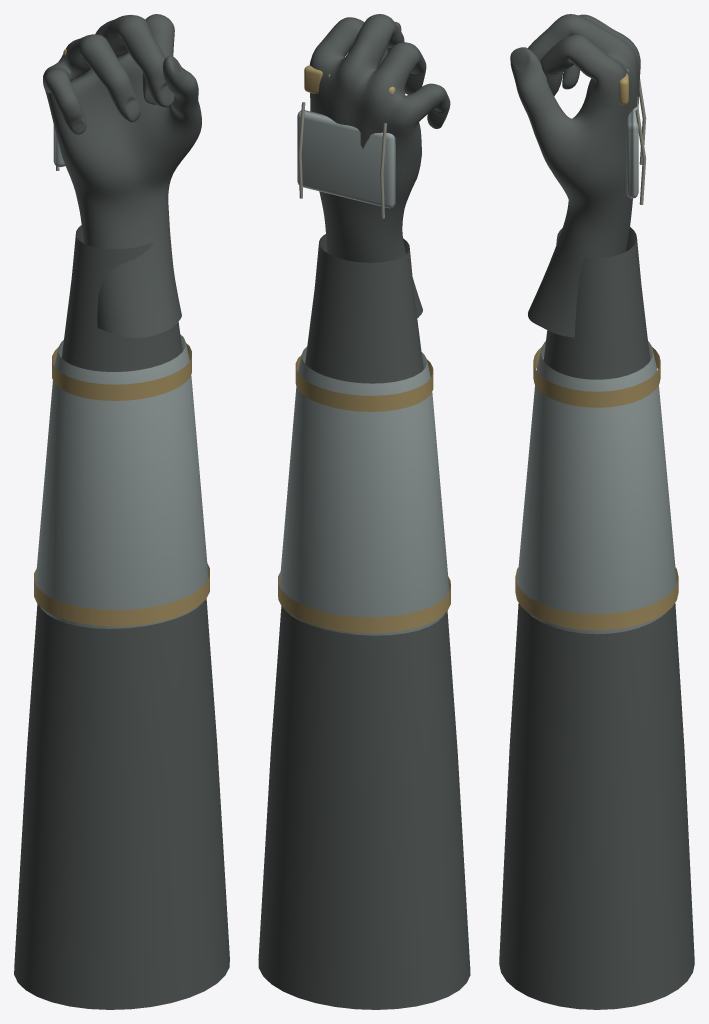
File: grip_glove.glb
3 views of the same model, side by side, from view 1: azimuth 30°, elevation 25°; view 2: azimuth 150°, elevation 25°; view 3: azimuth 270°, elevation 25° (orthographic).
Visible parts, largest first — view 1: Sleeve, Vambrace, FittedGrip, Cuff piping, Cuff piping.001; view 2: Sleeve, Vambrace, FittedGrip, Metacarpal plate, Cuff piping, Cuff piping.001; view 3: Sleeve, Vambrace, FittedGrip, Cuff piping, Cuff piping.001, Metacarpal plate.
Boxes of the visible parts, bbox=[...] form: Sleeve: bbox=[14, 225, 229, 1009]; Vambrace: bbox=[35, 334, 208, 628]; FittedGrip: bbox=[43, 14, 201, 338]; Cuff piping: bbox=[34, 563, 209, 626]; Cuff piping.001: bbox=[52, 343, 191, 400]; Sleeve: bbox=[258, 234, 470, 1009]; Vambrace: bbox=[279, 346, 449, 635]; FittedGrip: bbox=[309, 14, 450, 317]; Metacarpal plate: bbox=[297, 110, 395, 208]; Cuff piping: bbox=[278, 572, 450, 633]; Cuff piping.001: bbox=[295, 355, 433, 411]; Sleeve: bbox=[499, 227, 694, 1009]; Vambrace: bbox=[517, 341, 676, 634]; FittedGrip: bbox=[510, 14, 640, 337]; Cuff piping: bbox=[515, 567, 678, 630]; Cuff piping.001: bbox=[533, 347, 660, 407]; Metacarpal plate: bbox=[626, 96, 638, 198].
Bounding box in the file's own units: 0.148 × 0.7048 × 0.132.
